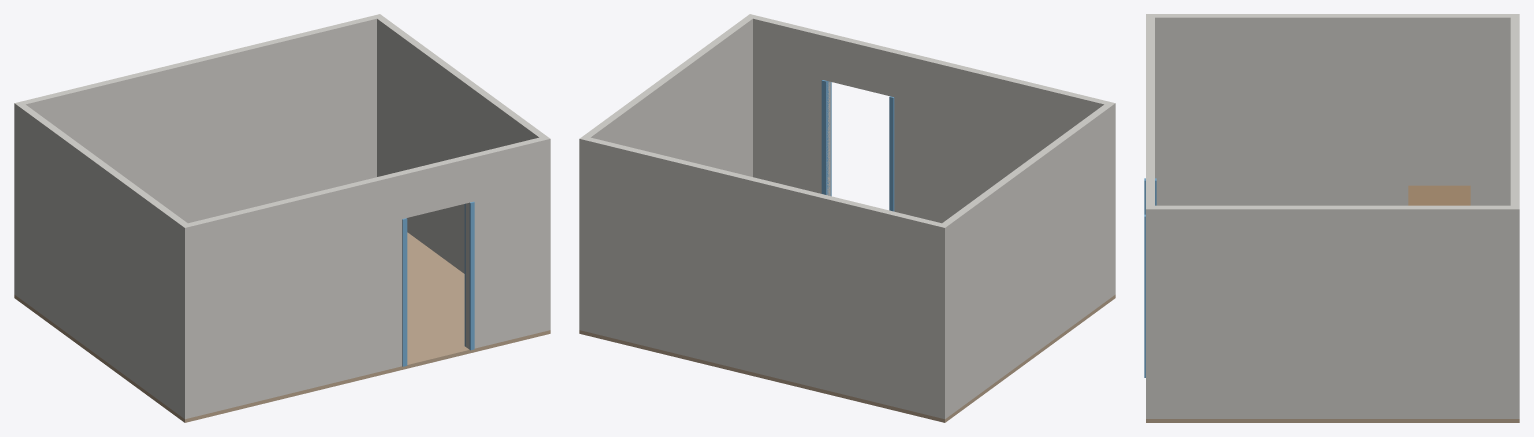
The model's file is room.glb.
3 views of the same model, side by side, from view 1: azimuth 30°, elevation 25°; view 2: azimuth 150°, elevation 25°; view 3: azimuth 270°, elevation 25° (orthographic). The views are drawn at different scales.
Parts seen in each view (by area): view 1: wall_north, wall_south_left, wall_west, wall_east, wall_south_right, floor, wall_south_top, door_frame_right, door_frame_left; view 2: wall_north, wall_west, wall_south_left, wall_east, wall_south_right, wall_south_top, floor, door_frame_right, door_frame_left; view 3: wall_east, wall_west, wall_north, wall_south_right, floor, desk_top, wall_south_left.
Part boxes in pixels (x1,y1,x2,y2): wall_north: (14,14,383,297); wall_south_left: (181,171,406,419); wall_west: (18,104,187,415); wall_east: (377,17,545,273); wall_south_right: (465,136,550,349); floor: (14,232,550,422); wall_south_top: (403,155,469,217); door_frame_right: (464,201,474,350); door_frame_left: (402,218,407,366); wall_north: (579,136,948,419); wall_west: (942,104,1111,415); wall_south_left: (890,49,1115,297); wall_east: (584,17,752,176); wall_south_right: (746,14,830,195); wall_south_top: (826,34,893,95); floor: (579,294,1115,422); door_frame_right: (821,80,831,196); door_frame_left: (889,96,894,211); wall_east: (1155,205,1510,418); wall_west: (1155,14,1510,205); wall_north: (1510,14,1519,418); wall_south_right: (1146,166,1154,418); floor: (1146,419,1519,422); desk_top: (1408,185,1470,205); wall_south_left: (1146,14,1154,132).
Bounding box in the file's own units: 5.2 × 2.65 × 4.22.
